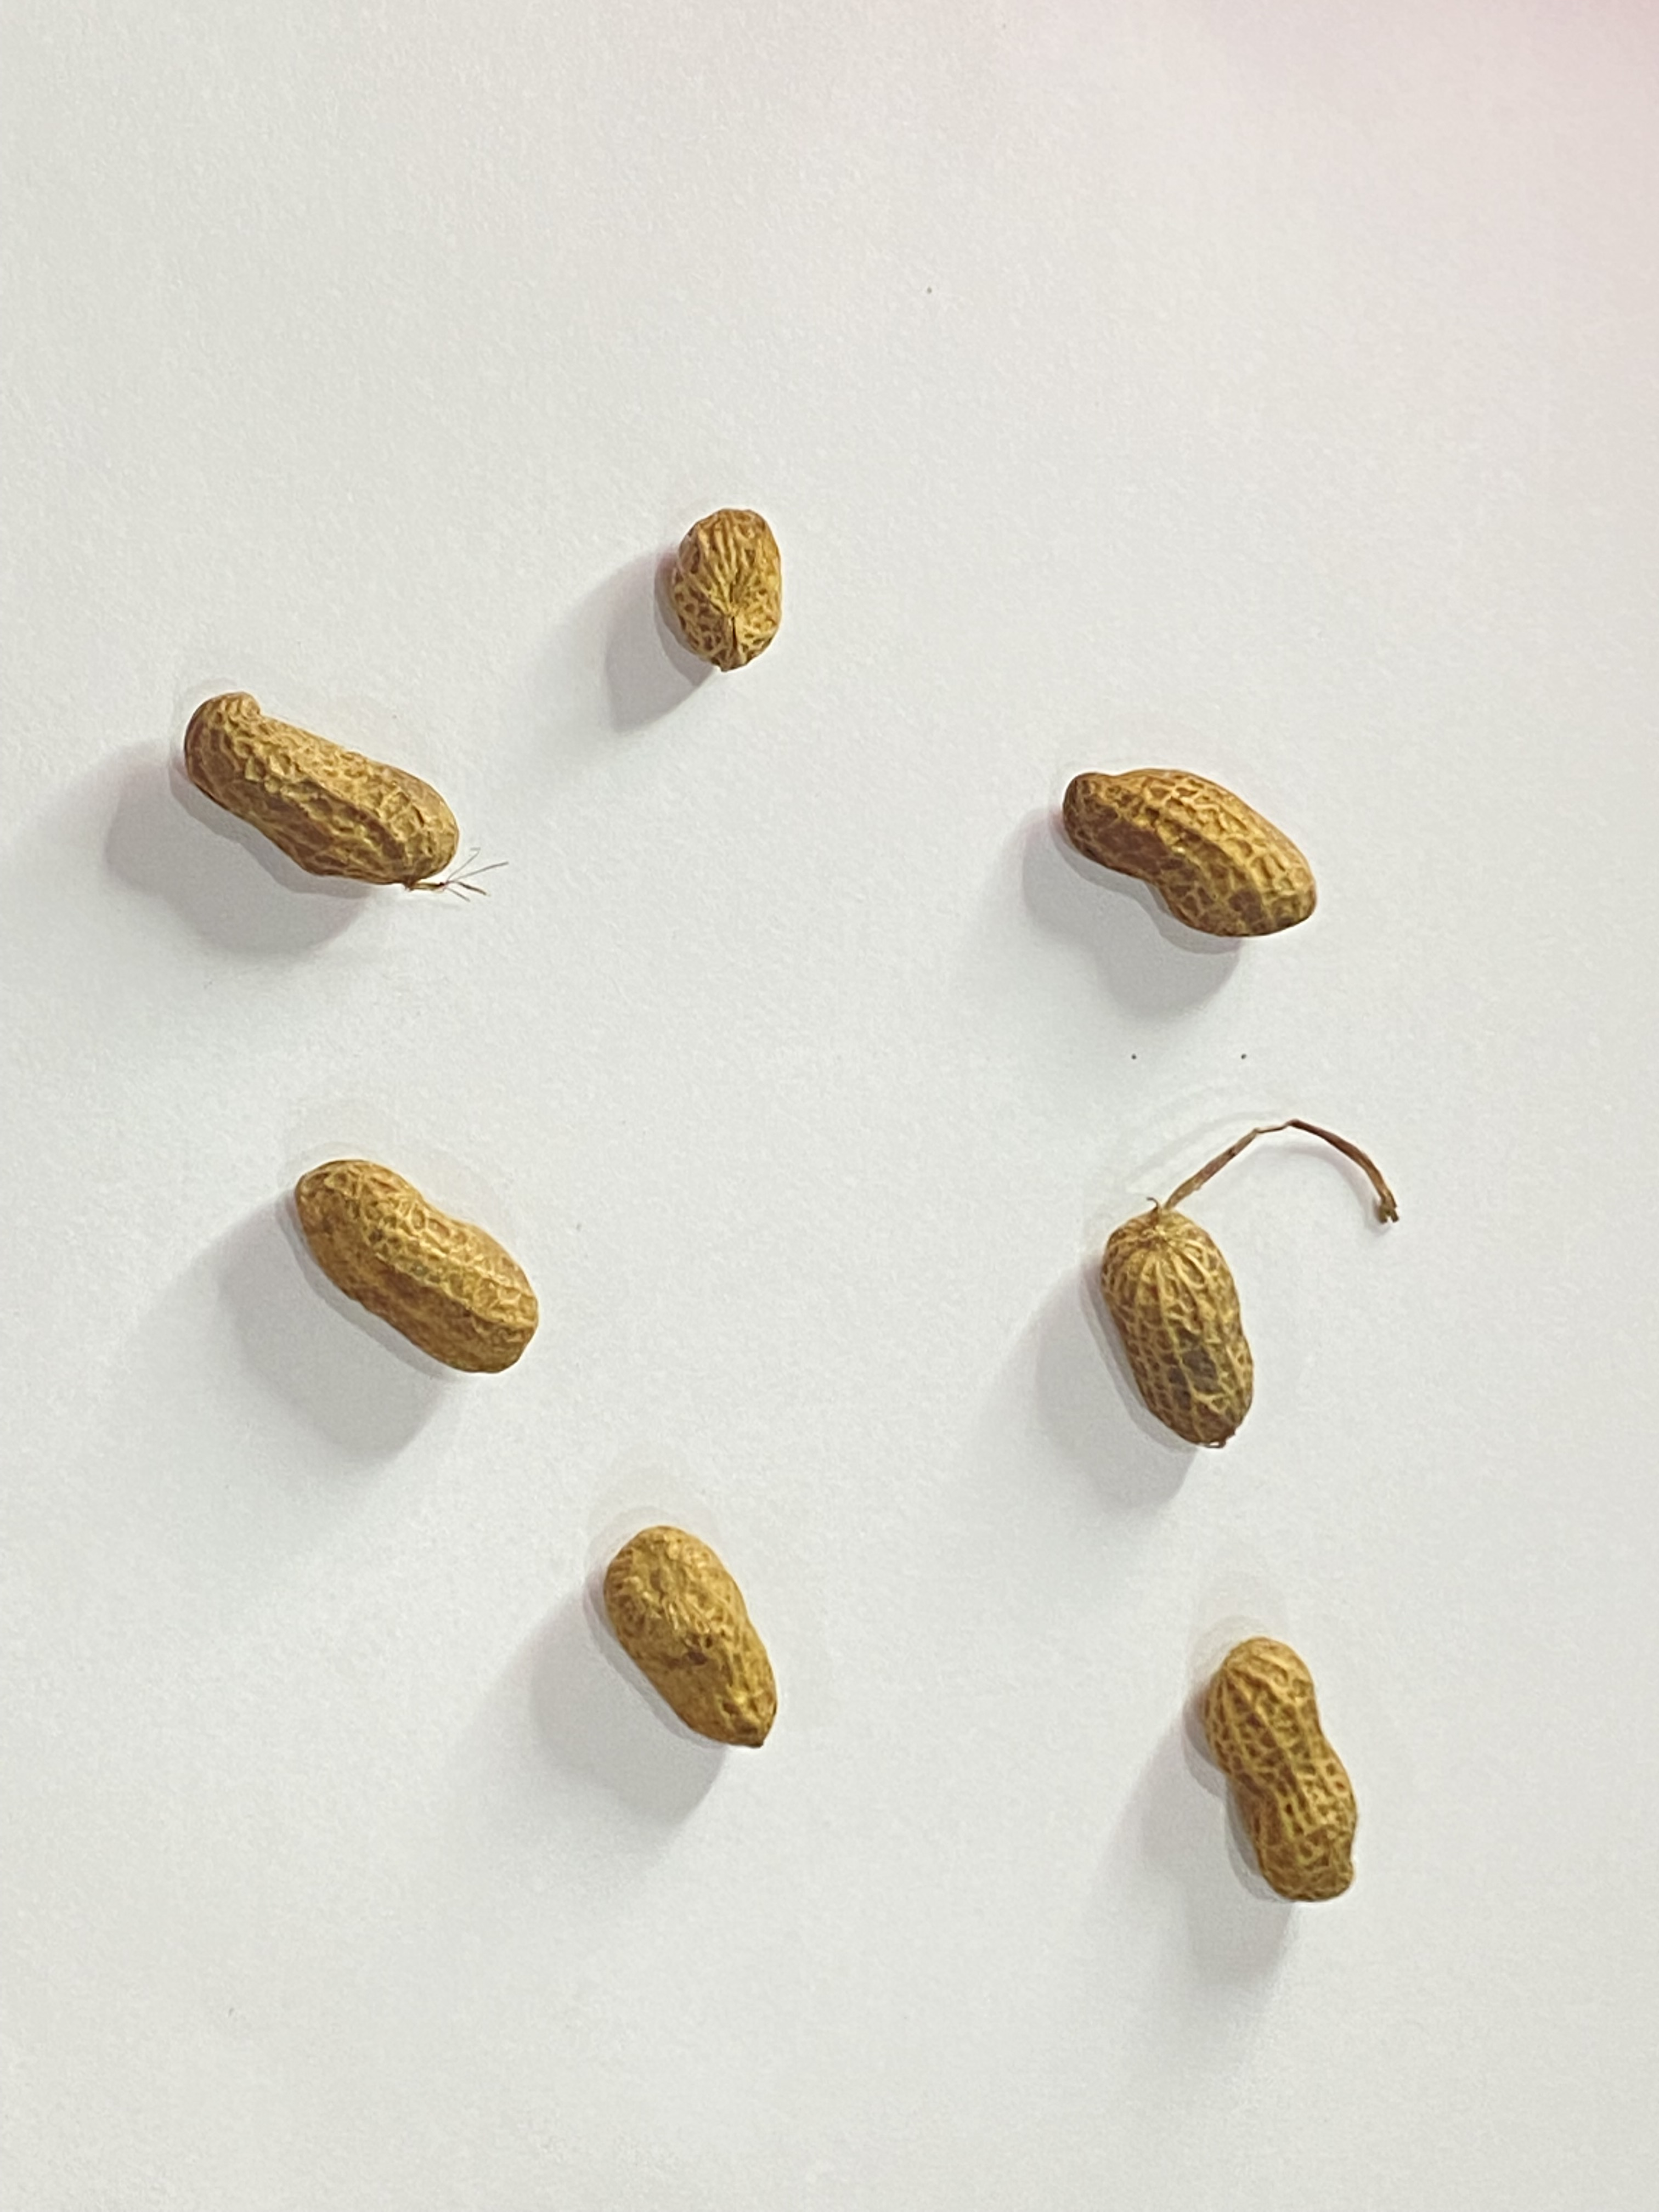kacang1: (652, 465, 800, 723)
kacang2: (131, 660, 516, 921), (1047, 723, 1335, 948), (1061, 1209, 1324, 1449), (282, 1151, 558, 1372), (1180, 1637, 1380, 1898), (591, 1521, 796, 1750)
